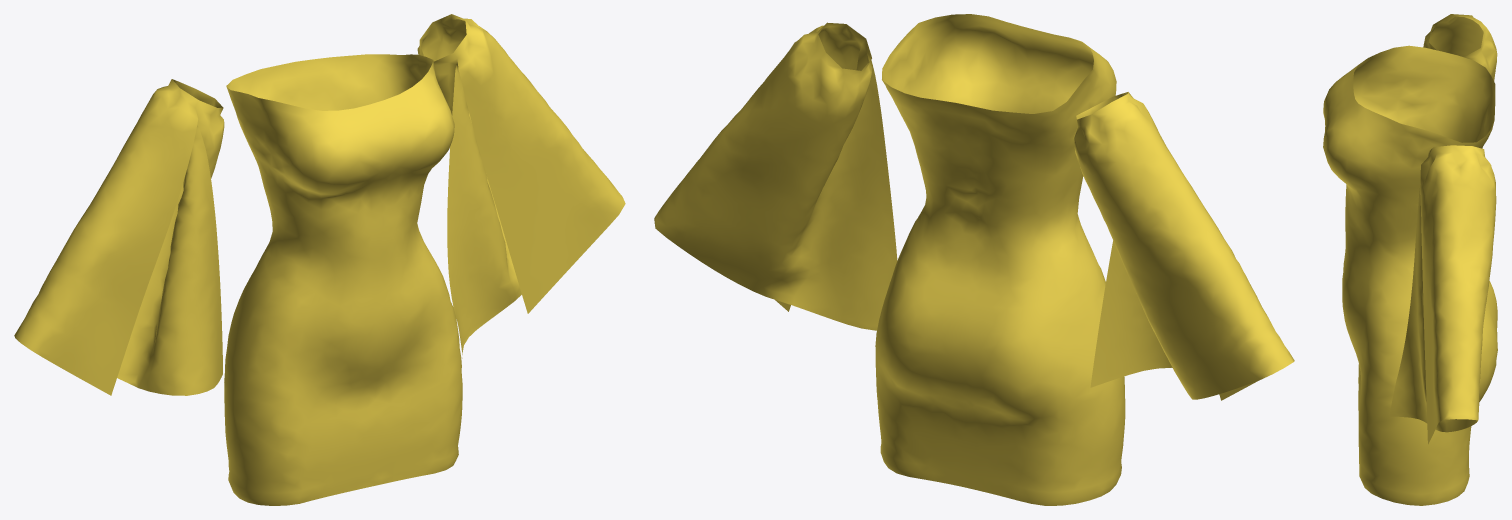
File: con_yellow_dress.glb
3 views of the same model, side by side, from view 1: azimuth 30°, elevation 25°; view 2: azimuth 150°, elevation 25°; view 3: azimuth 270°, elevation 25° (orthographic). The views are drawn at different scales.
Bounding box in the file's own units: 1006 × 653 × 271.
